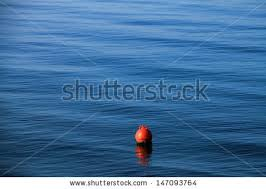buoy: (135, 126, 153, 143)
